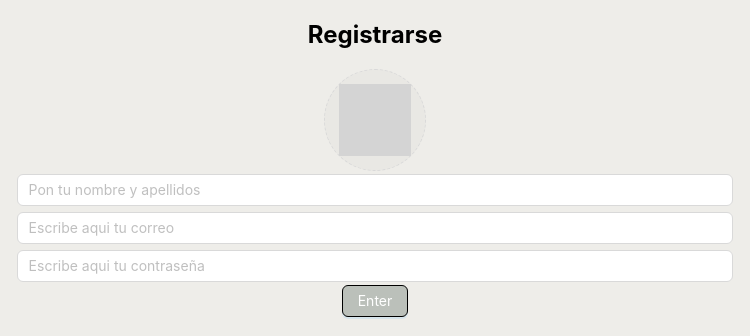
Test: SignUp › submits form with user input and signs up successfully
The image size is (750, 336).
Type "John Doe" into the field with placeholder "Pon tu nombre y apellidos".
click(375, 190); type("John Doe")  # box [17, 174, 733, 206]
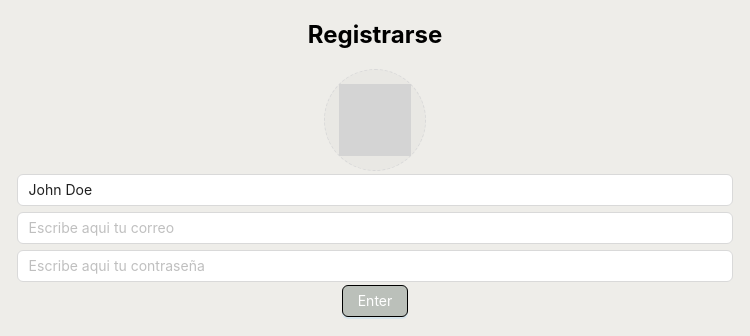
Type "test@example.com" into the field with placeholder "Escribe aqui tu correo".
click(375, 228); type("test@example.com")  # box [17, 212, 733, 244]
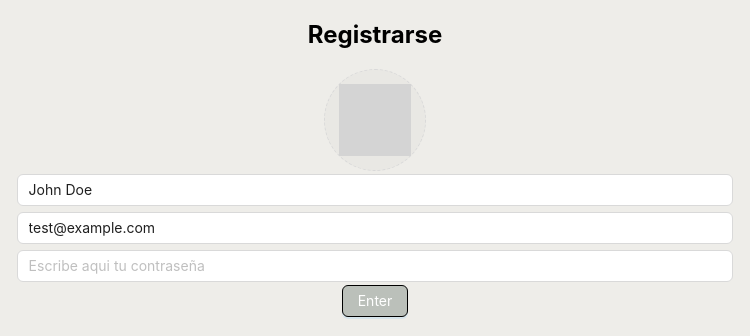
Type "password" into the password field with placeholder "Escribe aqui tu contraseña".
click(375, 266); type("password")  # box [17, 250, 733, 282]
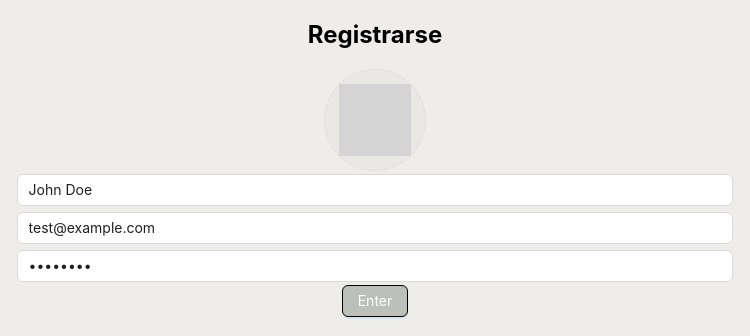
Click the button "Enter".
click(375, 301)  # box [342, 285, 408, 317]
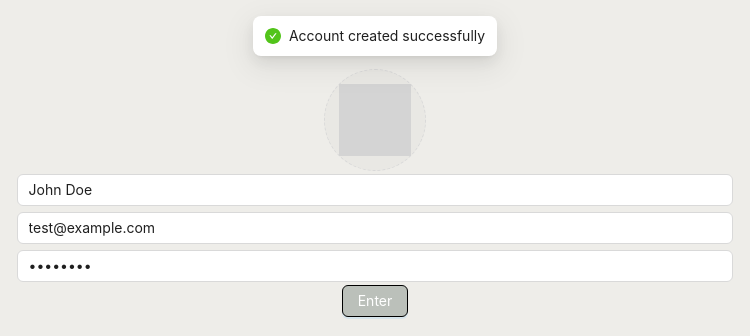
Now the text "Account created successfully" is shown, box [289, 25, 485, 47]
